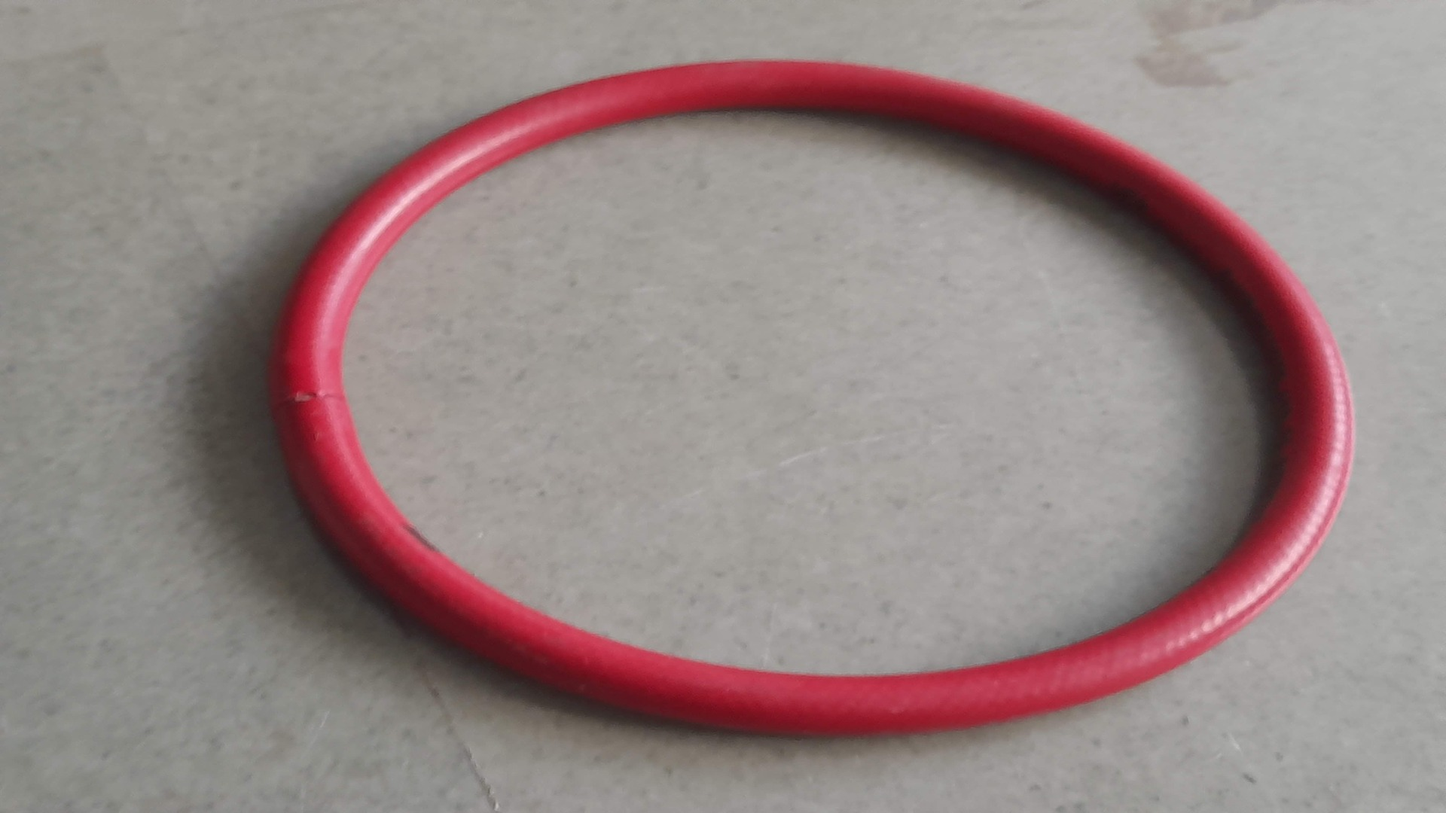Red ring: (269, 58, 1357, 737)
